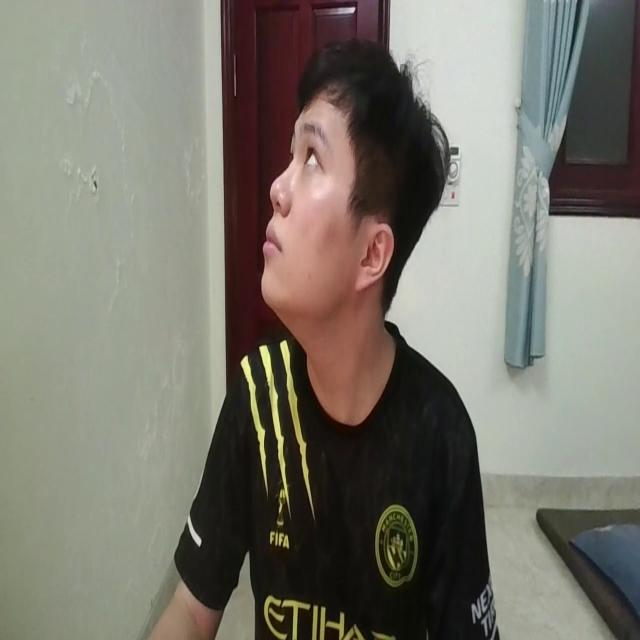student: (136, 42, 492, 640)
